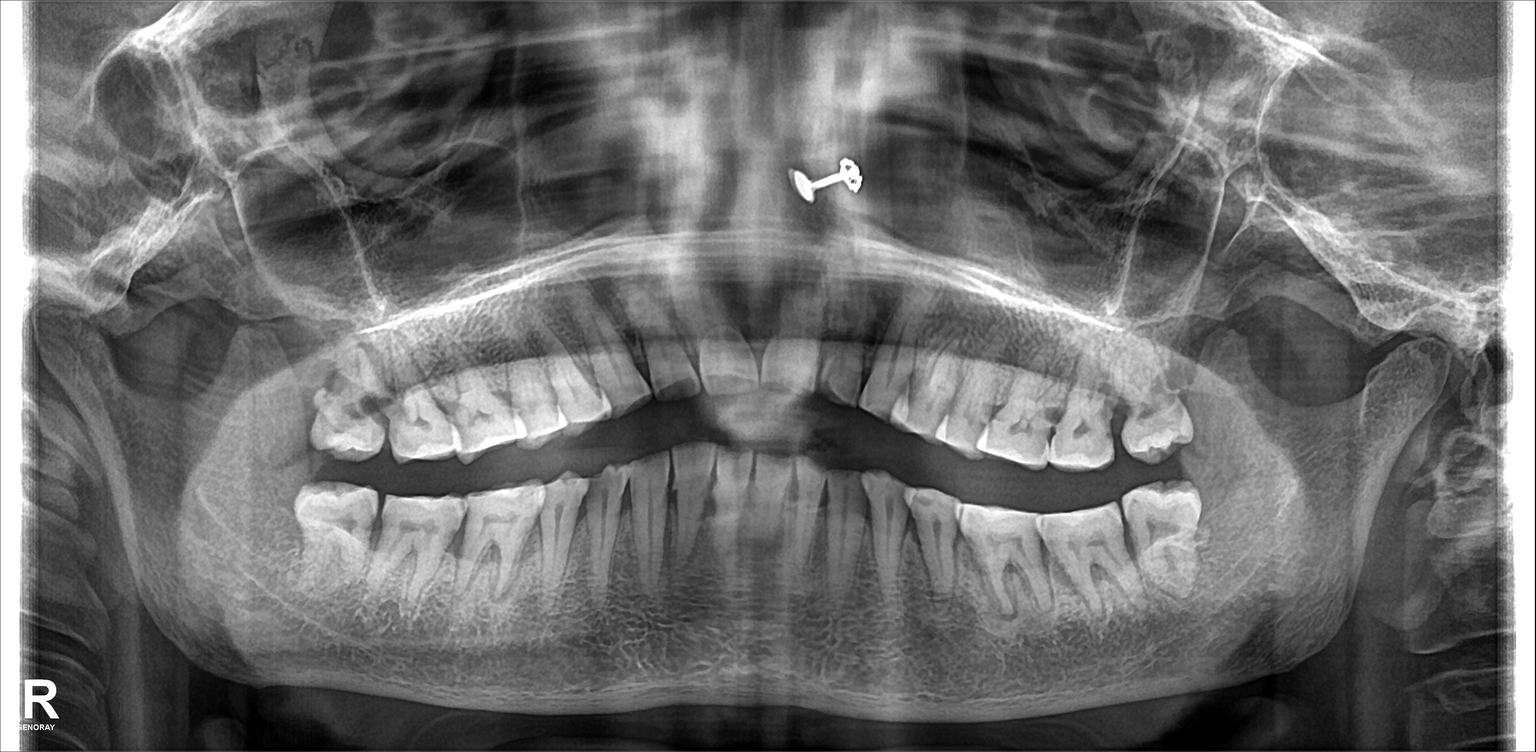Dental Caries: (363, 391, 390, 426), (656, 370, 693, 395)
Impacted Third Molar: (294, 486, 372, 600)
